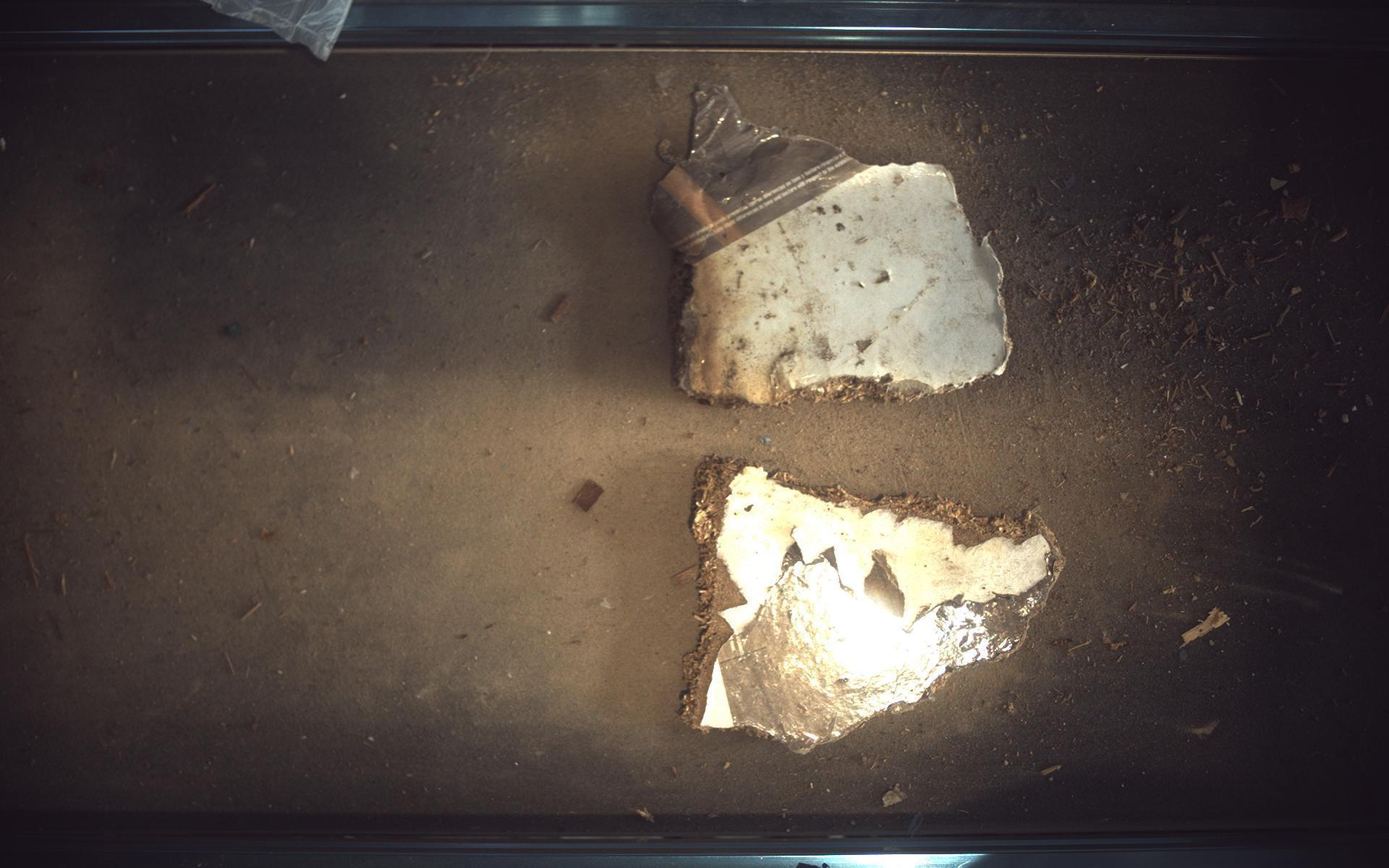wood: (653, 83, 1013, 404), (684, 458, 1066, 754)
